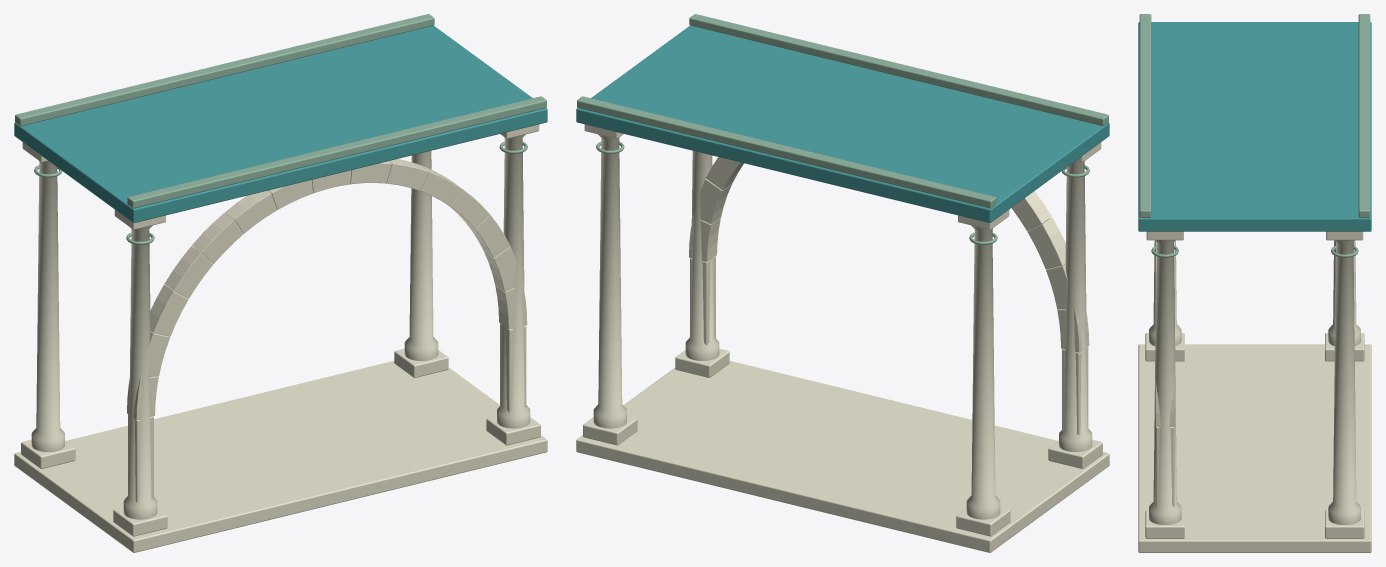
File: enchanted-harp-garden-and-music-sanctuary-garden-arcad-034057f5__30392.glb
3 renders of one model, left to right at view 1: azimuth 30°, elevation 25°; view 2: azimuth 150°, elevation 25°; view 3: azimuth 270°, elevation 25°, orthographic. The views are drawn at different scales.
Parts seen in each view (by area): view 1: garden-arcade-straight; view 2: garden-arcade-straight; view 3: garden-arcade-straight.
Part boxes in pixels (bbox=[...]): garden-arcade-straight: bbox=[14, 14, 547, 552]; garden-arcade-straight: bbox=[576, 14, 1109, 552]; garden-arcade-straight: bbox=[1138, 14, 1371, 552].
Size of the model in its own units: 4 by 3.25 by 2.
